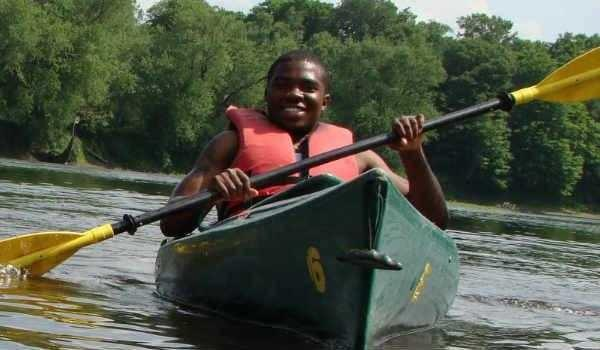kayak: (153, 169, 460, 344)
